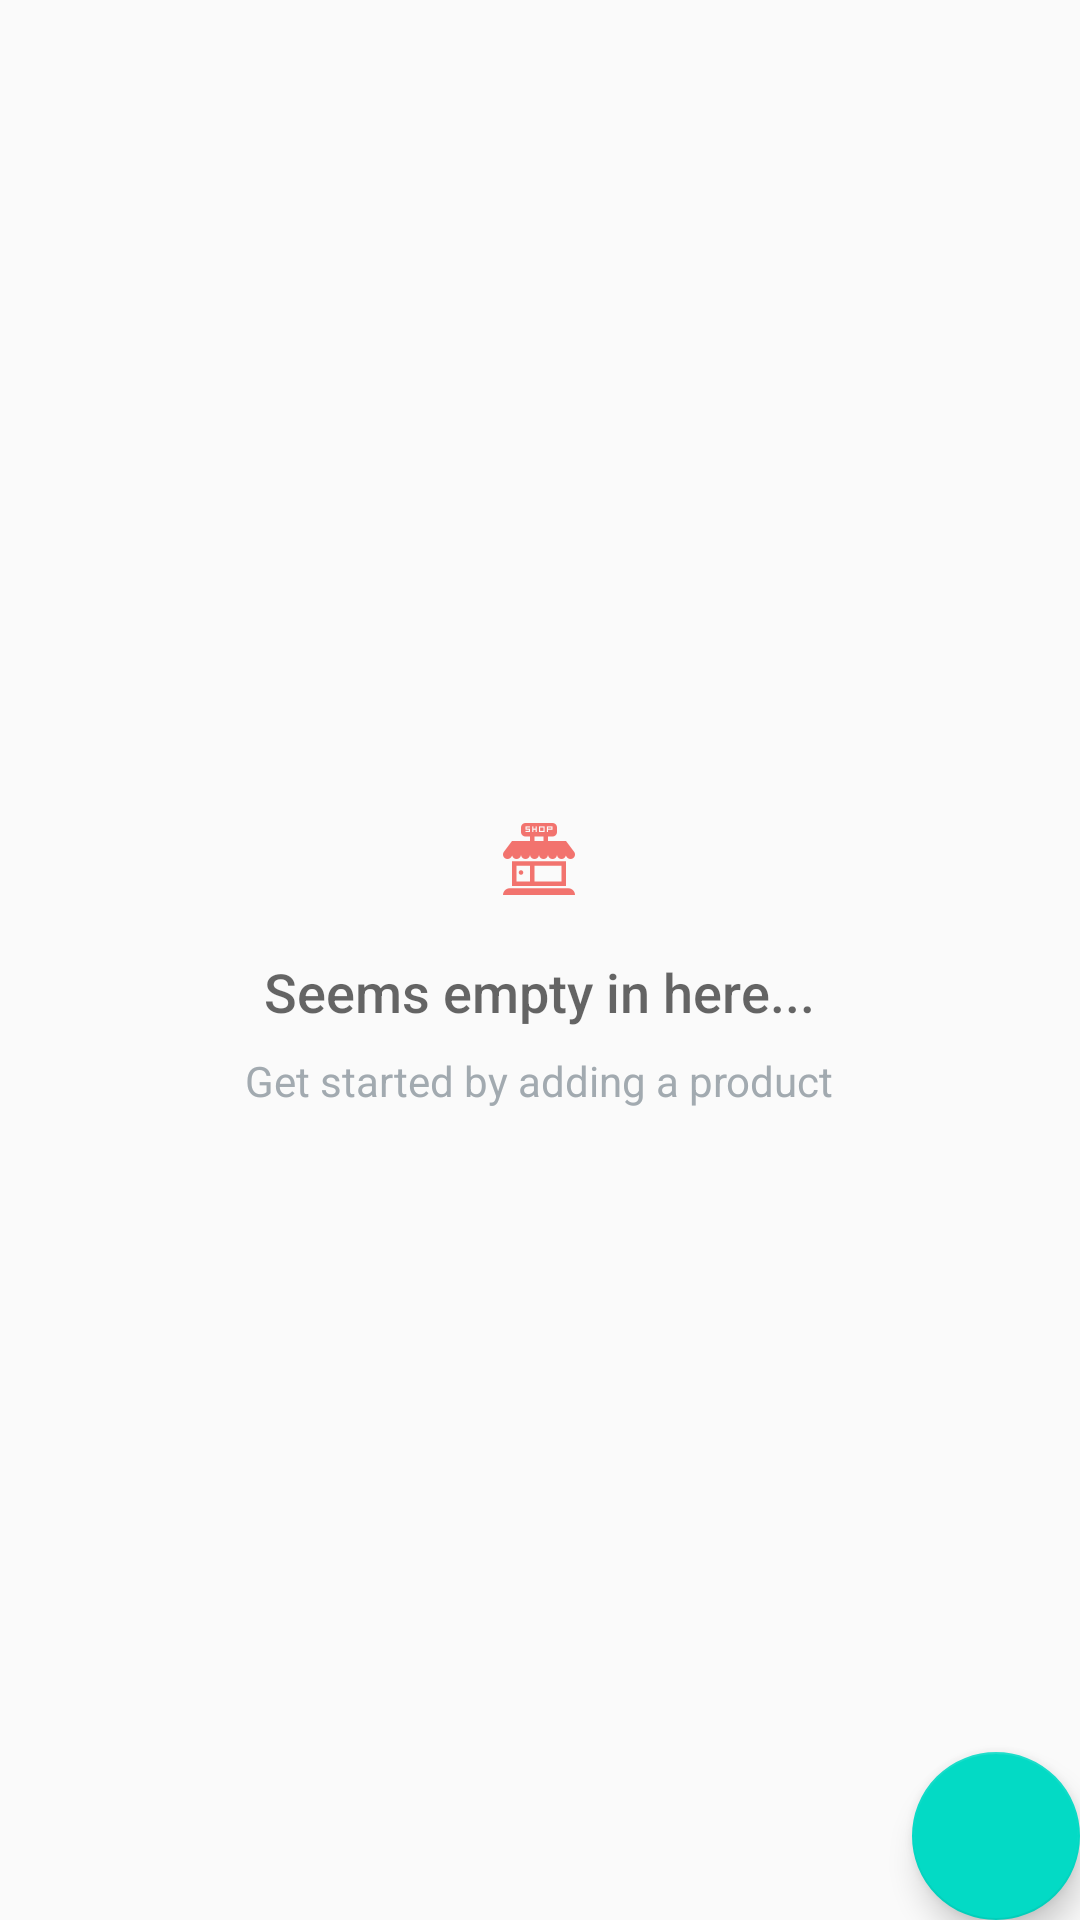

Where to tap for icons on this 1080px×1920px app screen, as (x,y):
empty store: (539,859)
